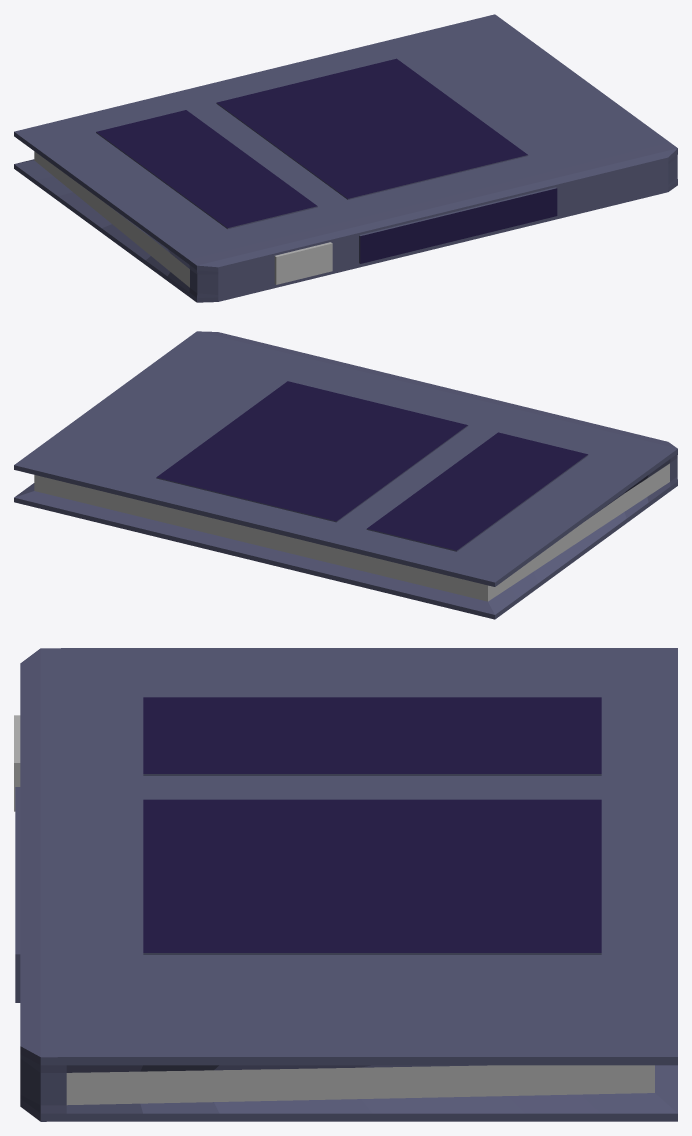
Rendered from Libro1.fbx.
3 views of the same model, one above another, from view 1: azimuth 30°, elevation 25°; view 2: azimuth 150°, elevation 25°; view 3: azimuth 270°, elevation 25° (orthographic). The views are drawn at different scales.
Visible parts, largest first — view 1: Libro3; view 2: Libro3; view 3: Libro3.
Boxes of the visible parts, bbox=[...] form: Libro3: bbox=[14, 14, 677, 302]; Libro3: bbox=[14, 331, 677, 619]; Libro3: bbox=[14, 648, 677, 1121].
Bounding box in the file's own units: 202 × 15.33 × 138.
